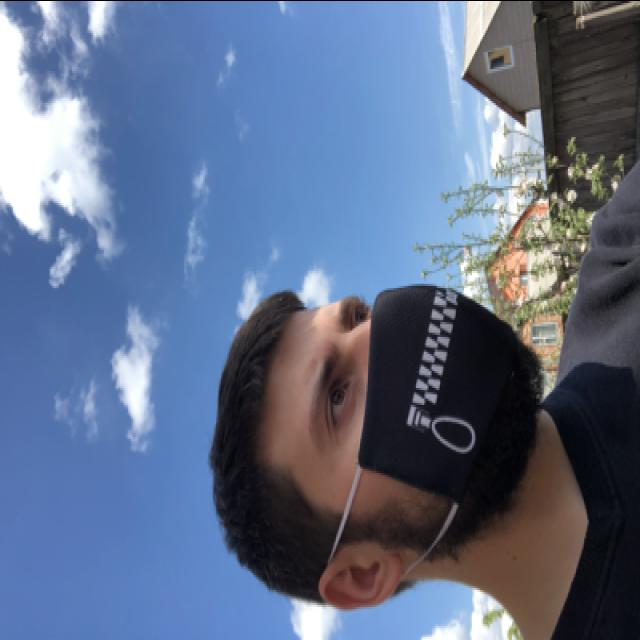mask: (301, 280, 544, 514)
